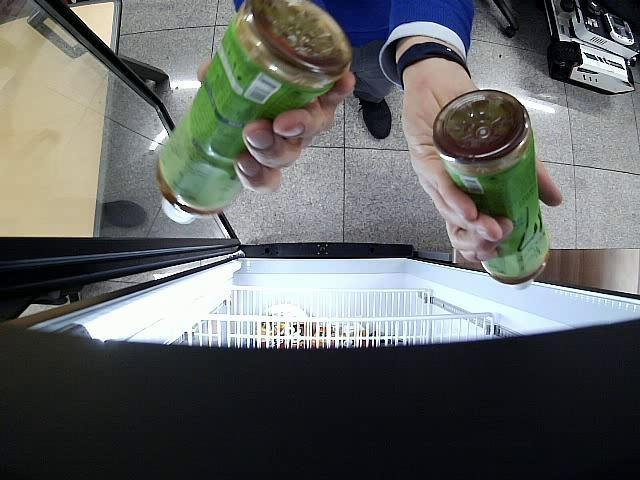19_17cha: (160, 0, 348, 224), (432, 89, 550, 290)
